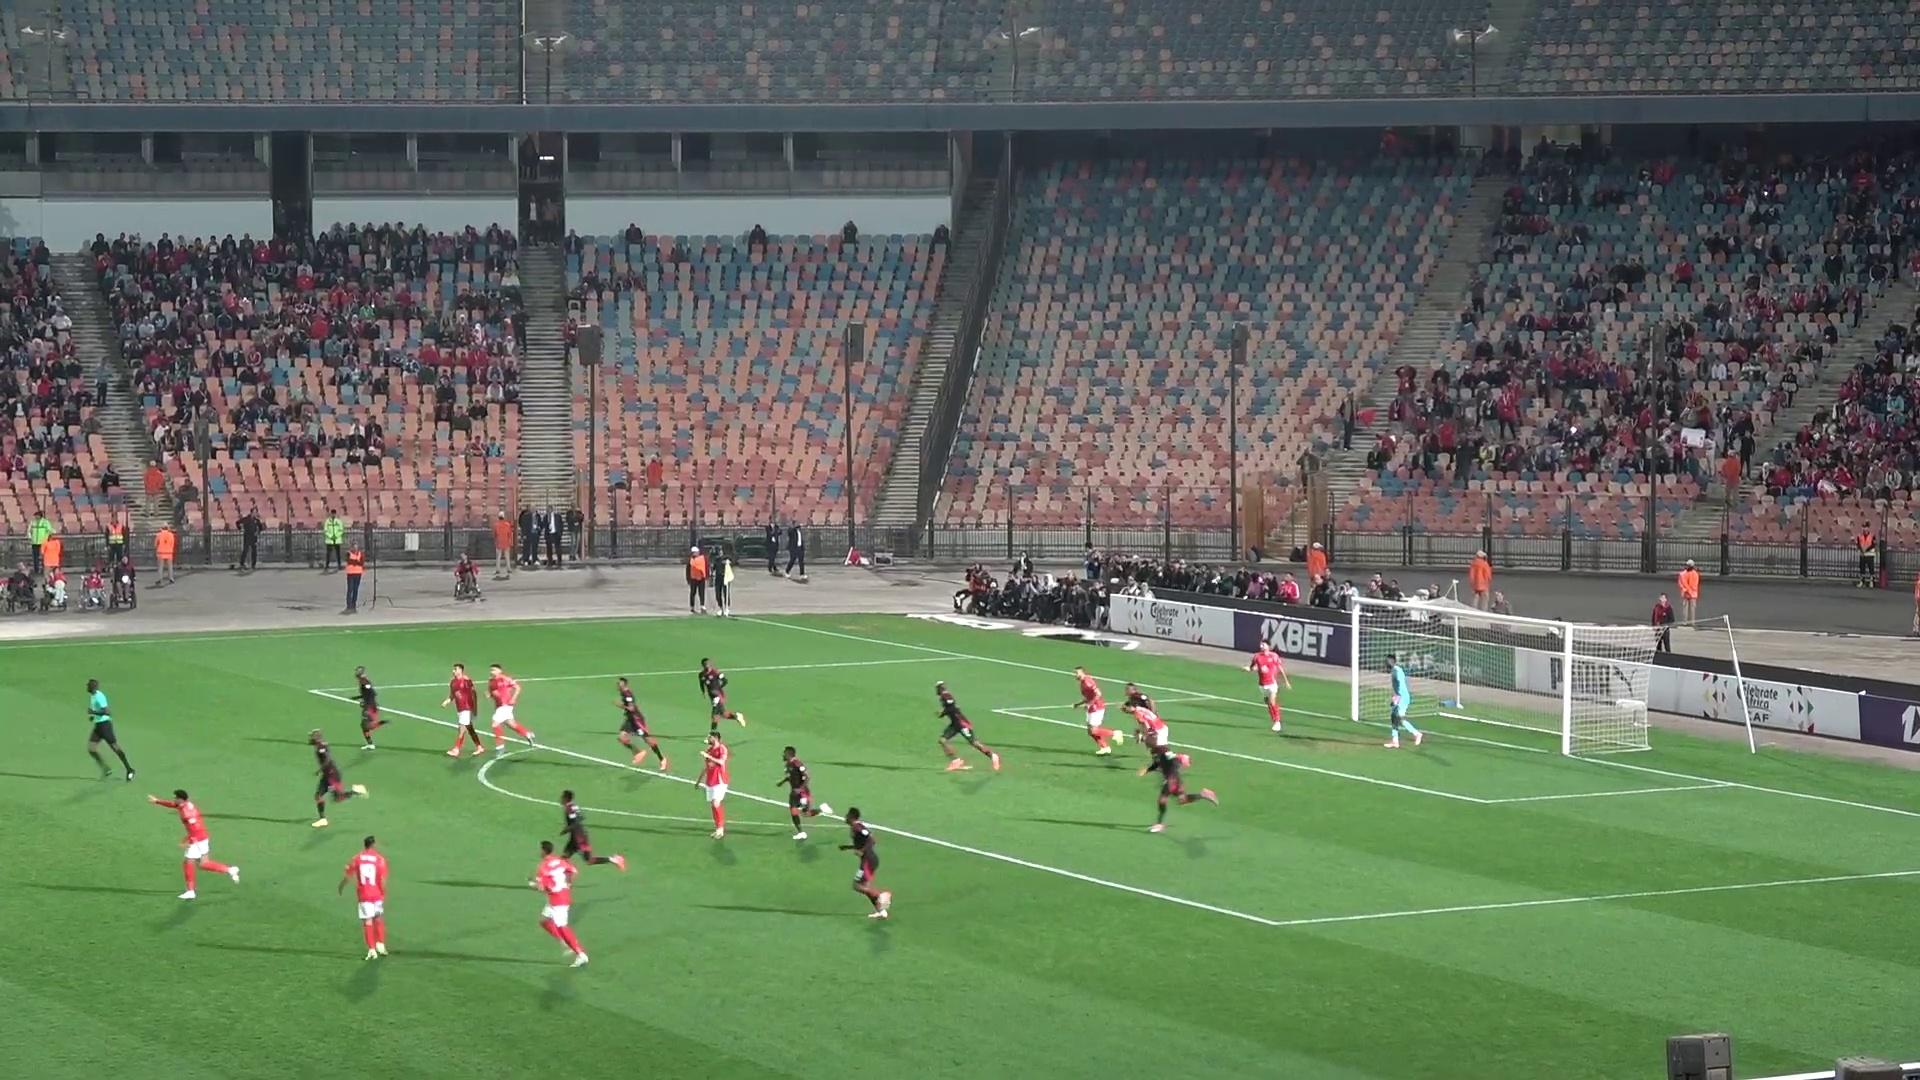GK2: (1383, 654, 1422, 749)
Refree: (86, 678, 135, 781)
Team1: (150, 790, 239, 899), (529, 841, 588, 967), (338, 836, 388, 959), (440, 662, 487, 758), (1072, 669, 1122, 756), (1246, 640, 1288, 732), (487, 665, 531, 749), (696, 731, 729, 837)
Team2: (1143, 742, 1217, 832), (935, 680, 1001, 770), (309, 729, 368, 827), (843, 807, 891, 916), (560, 789, 626, 869), (778, 745, 833, 840), (616, 676, 669, 771), (698, 659, 745, 731), (1121, 683, 1168, 746), (352, 666, 381, 713)
